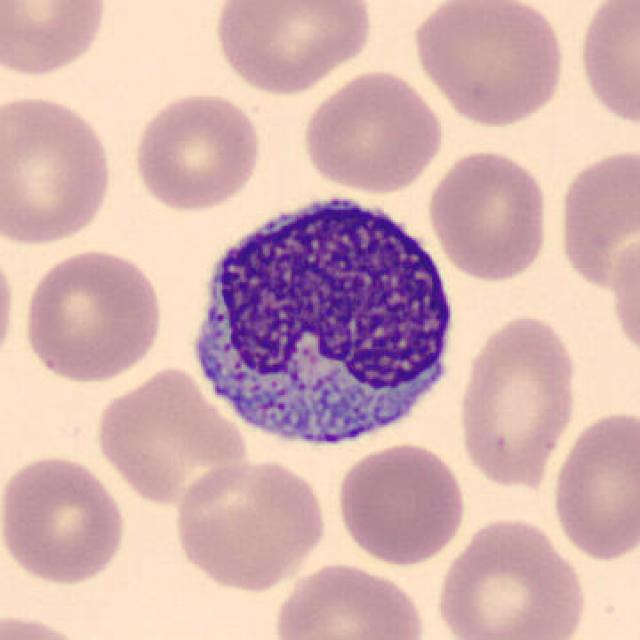Monocyte: (178, 180, 466, 462)
RBC: (90, 363, 252, 510), (454, 310, 582, 492), (171, 457, 329, 594), (409, 0, 571, 129), (20, 245, 167, 384), (432, 513, 590, 640), (299, 67, 448, 196), (0, 90, 117, 248), (423, 144, 553, 284), (332, 439, 470, 568), (0, 451, 130, 587), (128, 88, 265, 213), (210, 0, 378, 97), (548, 406, 638, 564), (553, 141, 638, 296), (271, 559, 428, 640), (574, 0, 640, 132), (0, 0, 110, 79), (606, 224, 640, 370), (0, 608, 96, 640), (0, 240, 20, 377)
